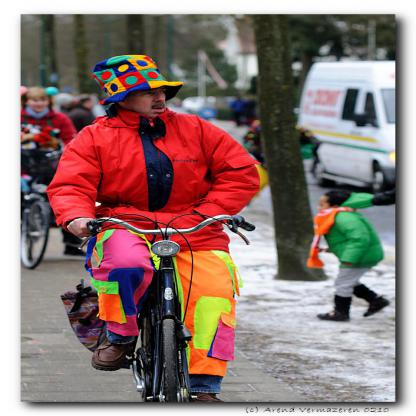Ambulance: (293, 56, 408, 209)
